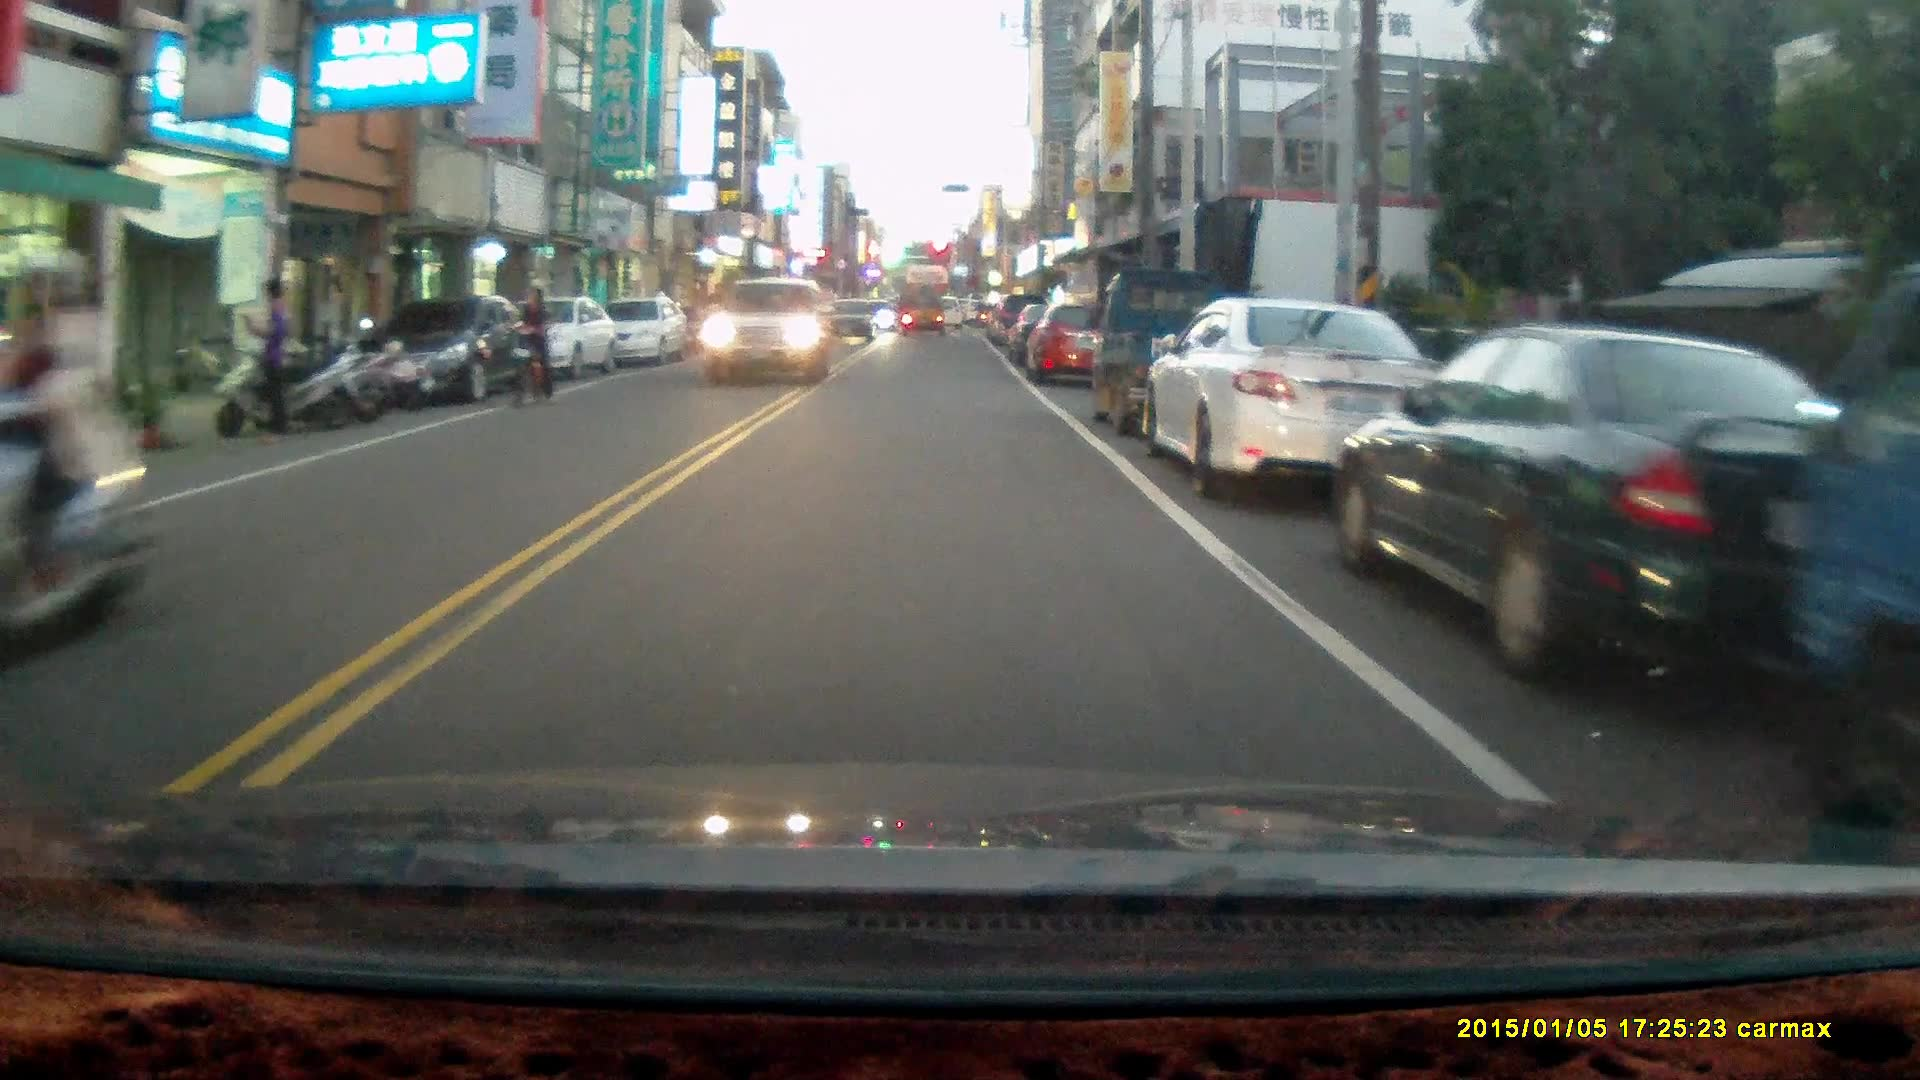pedestrian: (244, 274, 290, 447)
rider: (1, 245, 157, 676), (506, 285, 553, 410)
vehicle: (1328, 323, 1855, 692), (1136, 295, 1454, 499), (1091, 262, 1268, 446), (358, 289, 535, 402), (702, 279, 835, 383), (1025, 305, 1130, 387), (586, 297, 689, 365), (820, 297, 882, 349), (896, 283, 949, 340)
